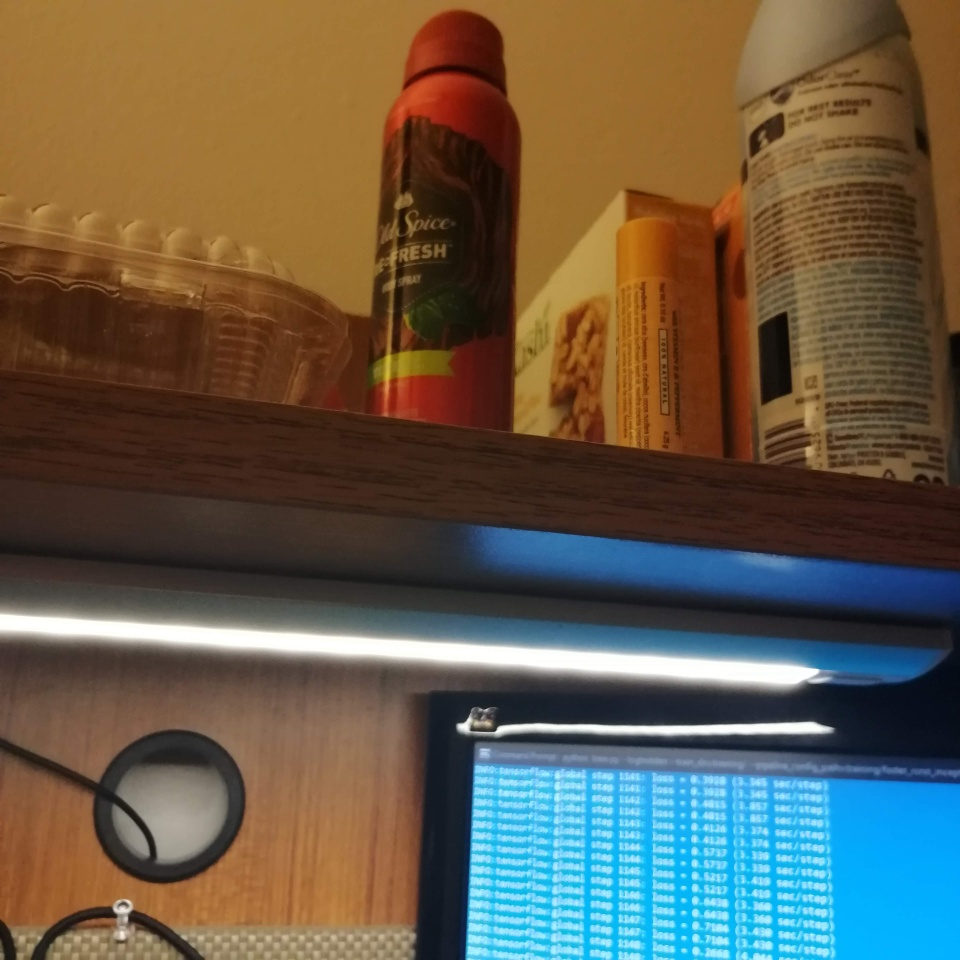chapstick: (614, 217, 683, 456)
